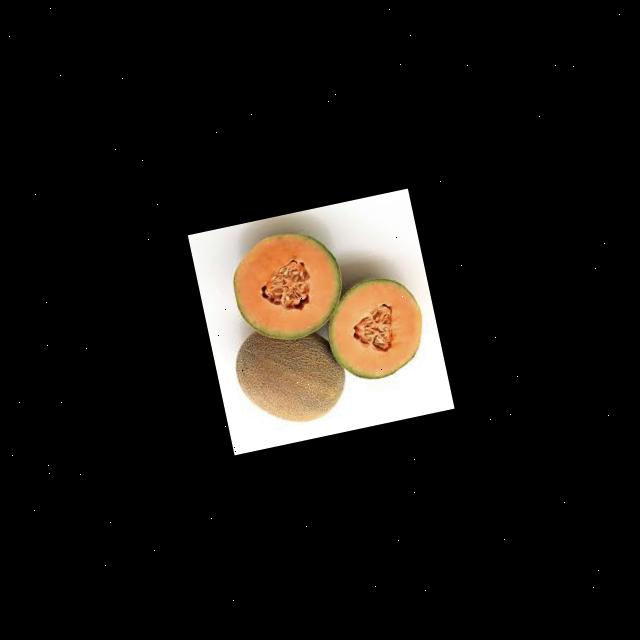Hami Melon: (224, 221, 352, 347), (317, 268, 431, 385), (232, 326, 351, 431)
